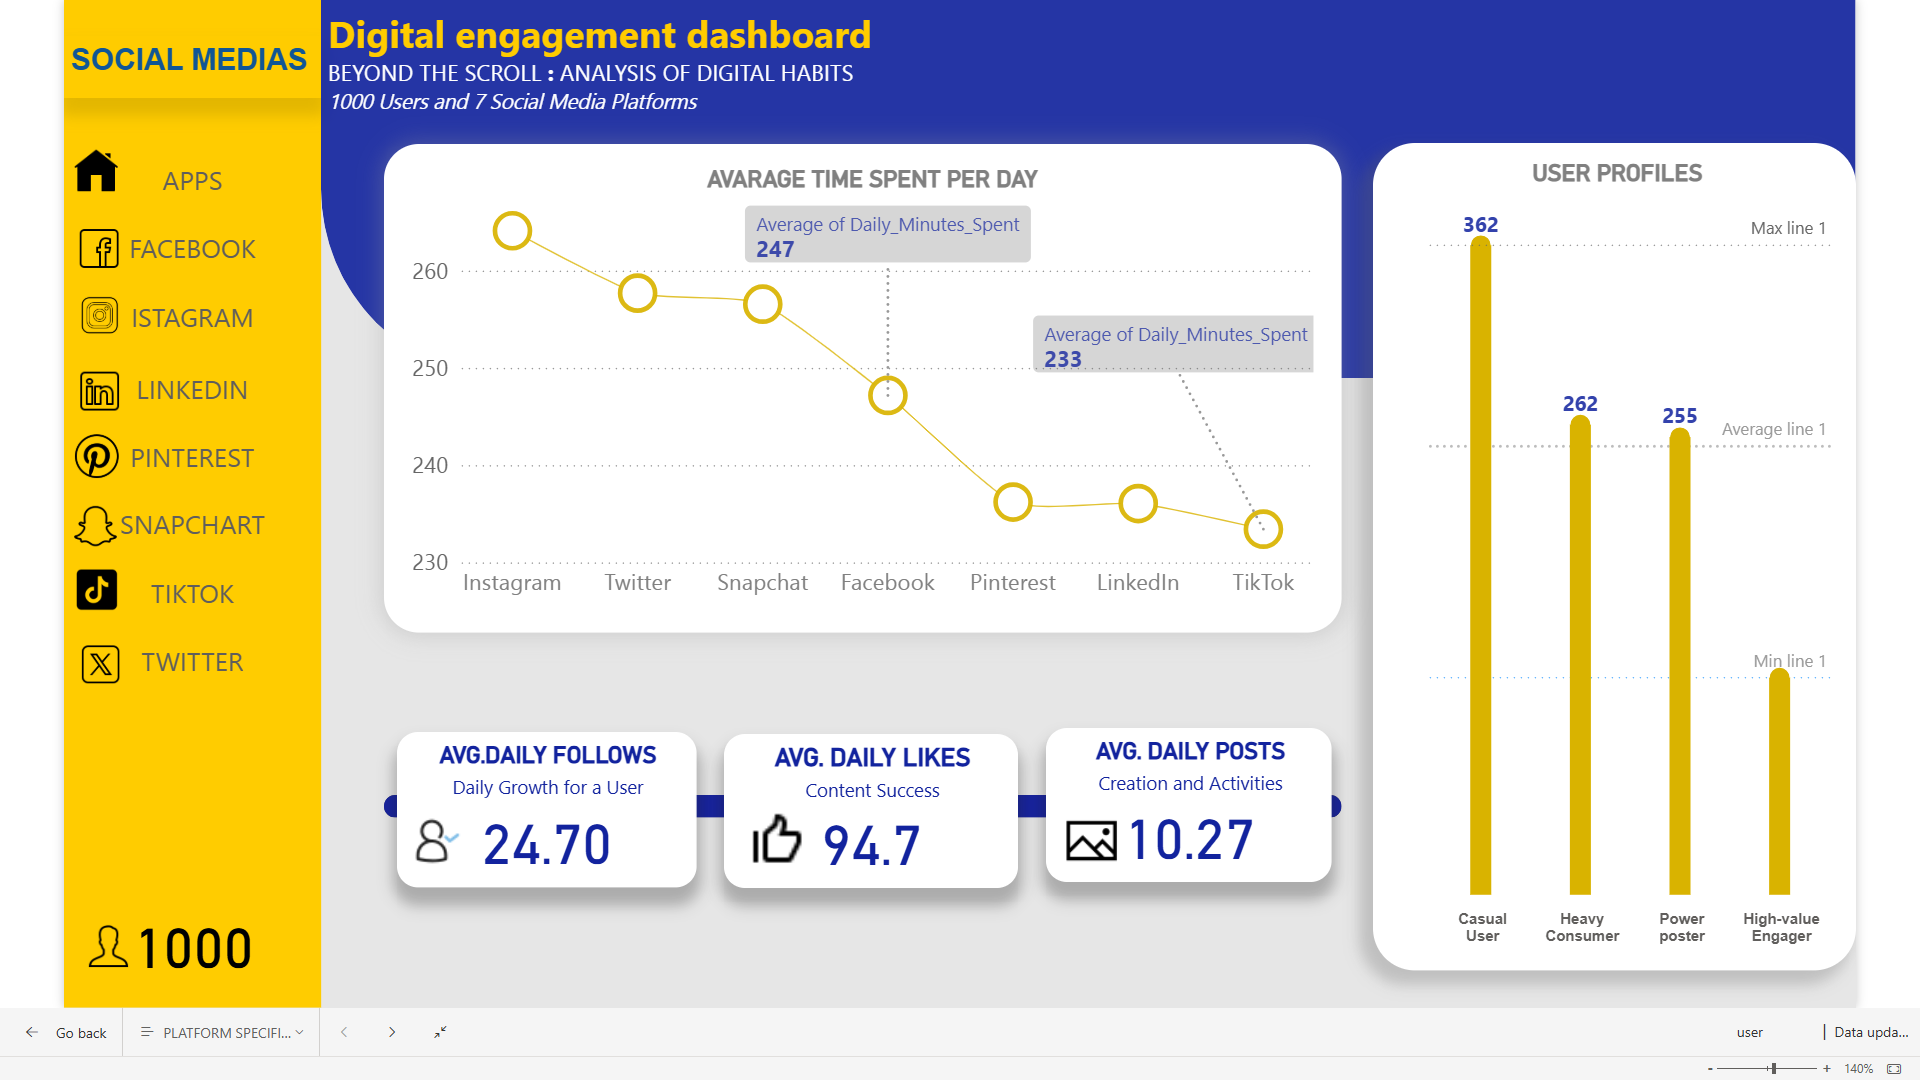

The page's visual inventory and layout, read from the dashboard file:
{"tool":"powerbi","page":{"name":"PLATFORM SPECIFIC ENGAGEMENT","canvas":[1280,720],"ordinal":0},"visuals":[{"type":"shape","box":[0,0,183.7,719.7],"z":0,"group":"g1"},{"type":"shape","box":[183.7,0,1096.3,270.3],"z":0,"group":"g2"},{"type":"actionButton","box":[0,102.6,183.7,48.9],"z":0,"group":"g6"},{"type":"tableEx","fields":{"Values":["social_media_usage.App"]},"box":[1041.1,421.1,150.5,267.9],"z":0},{"type":"card","title":"AVG. DAILY POSTS","fields":{"Values":["Avg(social_media_usage.Posts_Per_Day)"]},"box":[701.3,520.1,204.5,109.7],"z":0,"group":"g7"},{"type":"card","title":"AVG.DAILY FOLLOWS","fields":{"Values":["Avg(social_media_usage.Follows_Per_Day)"]},"box":[237.8,523.3,213.7,110.9],"z":0,"group":"g5"},{"type":"card","title":"AVG. DAILY LIKES","fields":{"Values":["Avg(social_media_usage.Likes_Per_Day)"]},"box":[471.2,524.5,210.3,109.7],"z":0,"group":"g8"},{"type":"group","id":"g1","title":"Group 1","box":[0,0,183.7,719.7],"z":1000},{"type":"textbox","box":[183.7,0,631.9,101.7],"z":1000,"group":"g2"},{"type":"textbox","box":[0,25.4,183.7,43.9],"z":1000,"group":"g1"},{"type":"actionButton","box":[0,151.5,183.7,48.9],"z":1000,"group":"g6"},{"type":"image","box":[703.8,575.2,60.8,51.1],"z":1000,"group":"g7"},{"type":"image","box":[479.7,575.3,58.9,50.8],"z":1000,"group":"g8"},{"type":"image","box":[245.3,576,43.9,50.8],"z":1000,"group":"g5"},{"type":"actionButton","box":[0,200.4,183.7,48.9],"z":2000,"group":"g6"},{"type":"image","box":[2.4,453.3,48.9,41.8],"z":2000},{"type":"actionButton","box":[0,251.7,183.7,48.9],"z":3000,"group":"g6"},{"type":"image","box":[0,354.3,45.3,42.9],"z":3000},{"type":"actionButton","box":[0,300.6,183.7,48.9],"z":4000,"group":"g6"},{"type":"image","box":[1.2,303,44.1,46.5],"z":4000},{"type":"image","box":[0,200.4,51.3,48.9],"z":5000},{"type":"actionButton","box":[0,348.3,183.7,48.9],"z":5000,"group":"g6"},{"type":"image","box":[1.2,397.2,44.1,48.9],"z":6000},{"type":"actionButton","box":[0,397.3,183.7,48.9],"z":6000,"group":"g6"},{"type":"image","box":[3.6,155.1,42.9,45.3],"z":7000},{"type":"actionButton","box":[0,446.2,183.7,48.9],"z":7000,"group":"g6"},{"type":"group","id":"g2","title":"Group 2","box":[183.7,0,1096.3,270.3],"z":8000},{"type":"lineChart","title":"AVARAGE TIME SPENT PER DAY","fields":{"Y":["Avg(social_media_usage.Daily_Minutes_Spent)"],"Category":["social_media_usage.App"]},"box":[228.7,102.8,683.9,348.9],"z":9000},{"type":"clusteredColumnChart","title":"USER PROFILES","fields":{"Category":["social_media_usage.User_profiling"],"Y":["CountNonNull(social_media_usage.User_ID)"]},"box":[934.8,102.2,345.2,591],"z":10000},{"type":"group","id":"g3","title":"Group 6","box":[228.7,520.1,683.9,114.1],"z":11000},{"type":"group","id":"g4","title":"Group 7","box":[0,626.9,185,92.5],"z":12000},{"type":"image","box":[0,257.7,51.3,42.9],"z":13000},{"type":"card","fields":{"Values":["CountNonNull(social_media_usage.User_ID)"]},"box":[0,626.9,184.8,92.4],"z":13000,"group":"g4"},{"type":"shape","box":[228.7,567.9,683.9,16.2],"z":13500,"group":"g3"},{"type":"image","box":[0,101.4,46.5,41.8],"z":14000},{"type":"group","id":"g5","title":"Group 3","box":[237.8,523.3,213.7,110.9],"z":14000,"group":"g3"},{"type":"group","id":"g6","title":"Group 8","box":[0,102.6,183.7,392.5],"z":15000},{"type":"group","id":"g7","title":"Group 4","box":[701.3,520.1,204.5,109.7],"z":15000,"group":"g3"},{"type":"group","id":"g8","title":"Group 5","box":[471.2,524.5,210.3,109.7],"z":16000,"group":"g3"},{"type":"image","box":[3.5,653.5,54.3,45.1],"z":16002,"group":"g4"}]}

Visuals, with their boxes on the page's 1280x720 design canvas (x1, y1, x2, y2). These are canvas units, not pixel positions in the 1920x1080 screenshot, which may show the page scaled, cropped or inside an application window:
shape: <bbox>0, 0, 184, 720</bbox>
shape: <bbox>184, 0, 1280, 270</bbox>
actionButton: <bbox>0, 103, 184, 152</bbox>
tableEx - social_media_usage.App: <bbox>1041, 421, 1192, 689</bbox>
"AVG. DAILY POSTS" card: <bbox>701, 520, 906, 630</bbox>
"AVG.DAILY FOLLOWS" card: <bbox>238, 523, 452, 634</bbox>
"AVG. DAILY LIKES" card: <bbox>471, 524, 682, 634</bbox>
"Group 1" group: <bbox>0, 0, 184, 720</bbox>
textbox: <bbox>184, 0, 816, 102</bbox>
textbox: <bbox>0, 25, 184, 69</bbox>
actionButton: <bbox>0, 152, 184, 200</bbox>
image: <bbox>704, 575, 765, 626</bbox>
image: <bbox>480, 575, 539, 626</bbox>
image: <bbox>245, 576, 289, 627</bbox>
actionButton: <bbox>0, 200, 184, 249</bbox>
image: <bbox>2, 453, 51, 495</bbox>
actionButton: <bbox>0, 252, 184, 301</bbox>
image: <bbox>0, 354, 45, 397</bbox>
actionButton: <bbox>0, 301, 184, 350</bbox>
image: <bbox>1, 303, 45, 350</bbox>
image: <bbox>0, 200, 51, 249</bbox>
actionButton: <bbox>0, 348, 184, 397</bbox>
image: <bbox>1, 397, 45, 446</bbox>
actionButton: <bbox>0, 397, 184, 446</bbox>
image: <bbox>4, 155, 46, 200</bbox>
actionButton: <bbox>0, 446, 184, 495</bbox>
"Group 2" group: <bbox>184, 0, 1280, 270</bbox>
"AVARAGE TIME SPENT PER DAY" lineChart: <bbox>229, 103, 913, 452</bbox>
"USER PROFILES" clusteredColumnChart: <bbox>935, 102, 1280, 693</bbox>
"Group 6" group: <bbox>229, 520, 913, 634</bbox>
"Group 7" group: <bbox>0, 627, 185, 719</bbox>
image: <bbox>0, 258, 51, 301</bbox>
card - CountNonNull(social_media_usage.User_ID): <bbox>0, 627, 185, 719</bbox>
shape: <bbox>229, 568, 913, 584</bbox>
image: <bbox>0, 101, 46, 143</bbox>
"Group 3" group: <bbox>238, 523, 452, 634</bbox>
"Group 8" group: <bbox>0, 103, 184, 495</bbox>
"Group 4" group: <bbox>701, 520, 906, 630</bbox>
"Group 5" group: <bbox>471, 524, 682, 634</bbox>
image: <bbox>4, 654, 58, 699</bbox>
